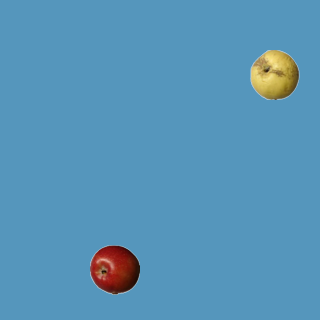Apple Braeburn: (89, 244, 139, 294)
Apple Golden 1: (249, 49, 299, 99)
